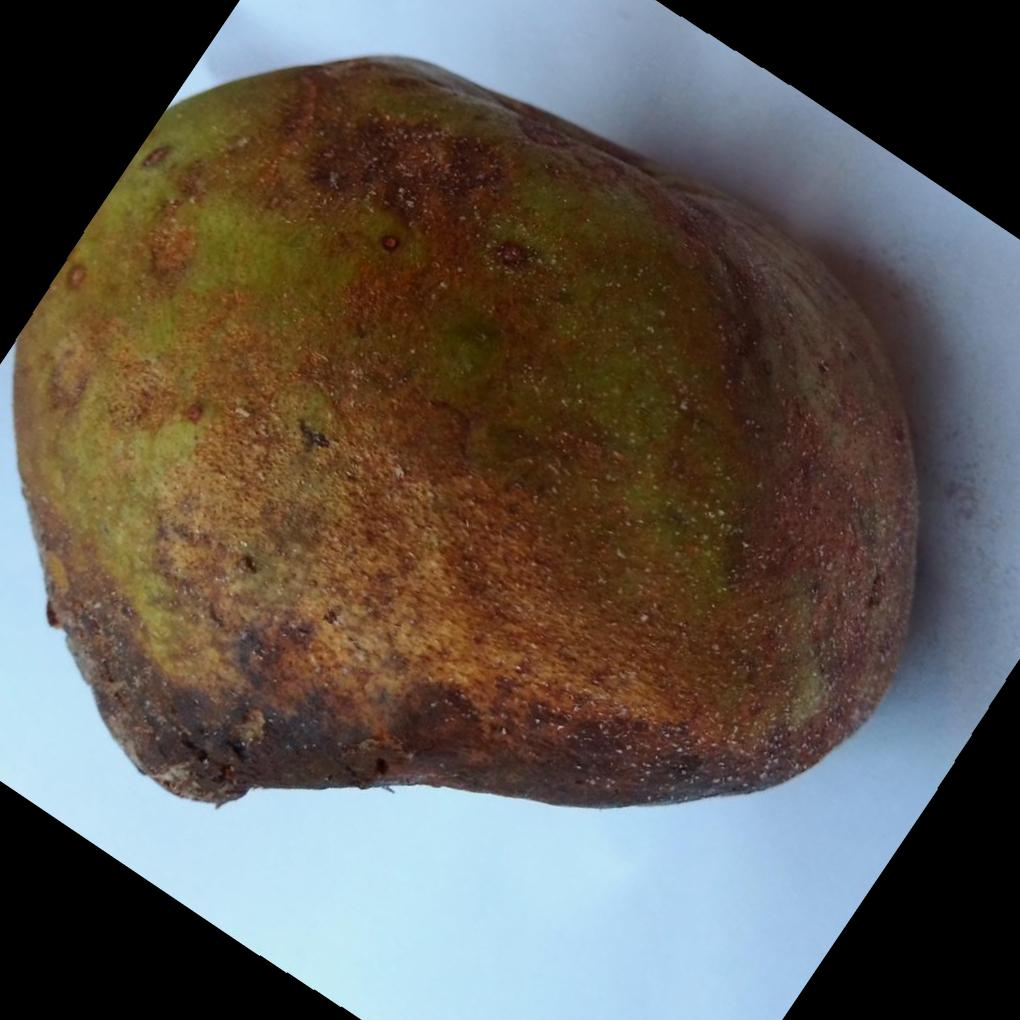FreshOrange: (12, 53, 924, 812)
